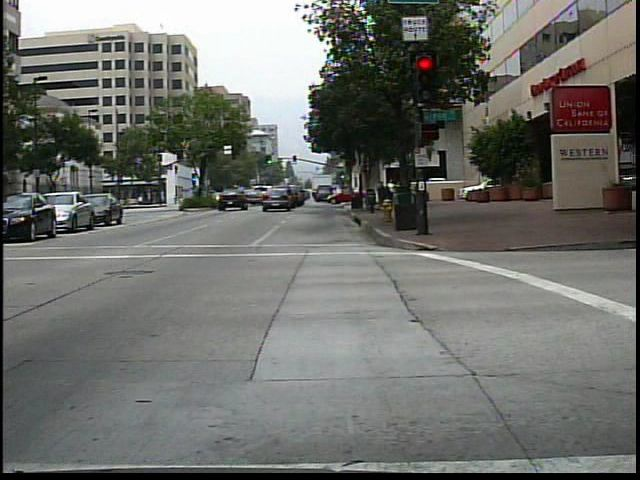person: (170, 192, 181, 208)
